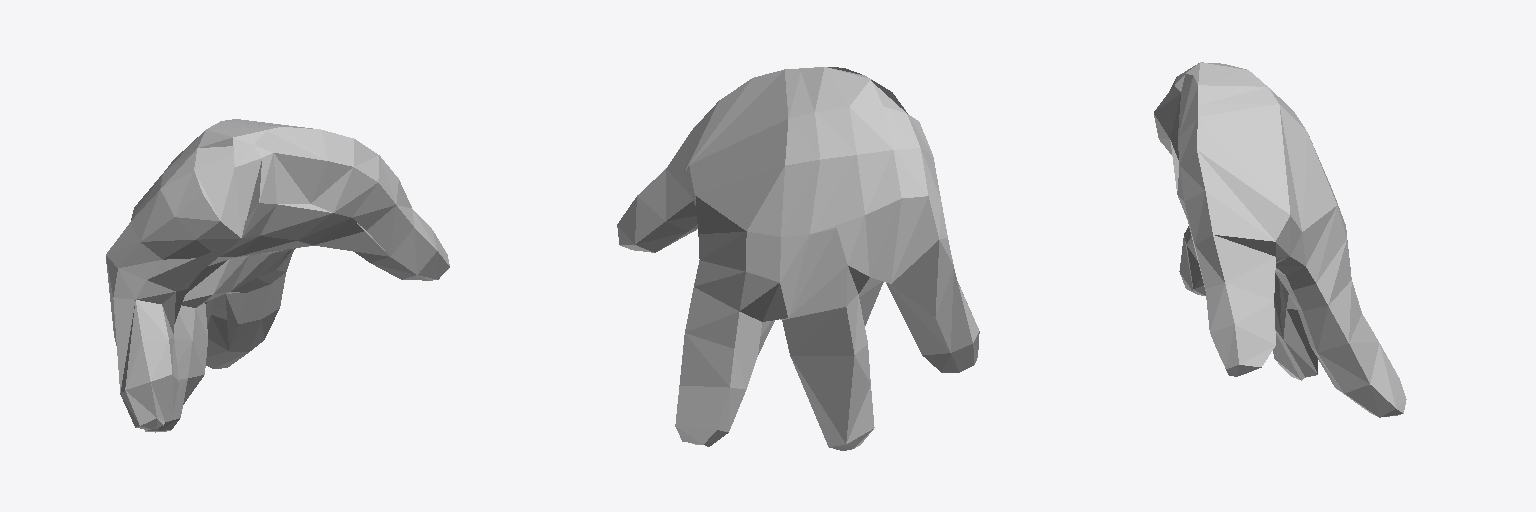
The model's file is hand.obj.
3 renders of one model, left to right at view 1: azimuth 30°, elevation 25°; view 2: azimuth 150°, elevation 25°; view 3: azimuth 270°, elevation 25°, orthographic.
Visible parts, largest first — view 1: handl; view 2: handl; view 3: handl.
Boxes of the visible parts, box(x1,y1,x2,y2) form: handl: box(106, 119, 449, 432); handl: box(617, 67, 979, 450); handl: box(1154, 62, 1406, 417).
Bounding box in the file's own units: 2.84 × 2.61 × 1.82.